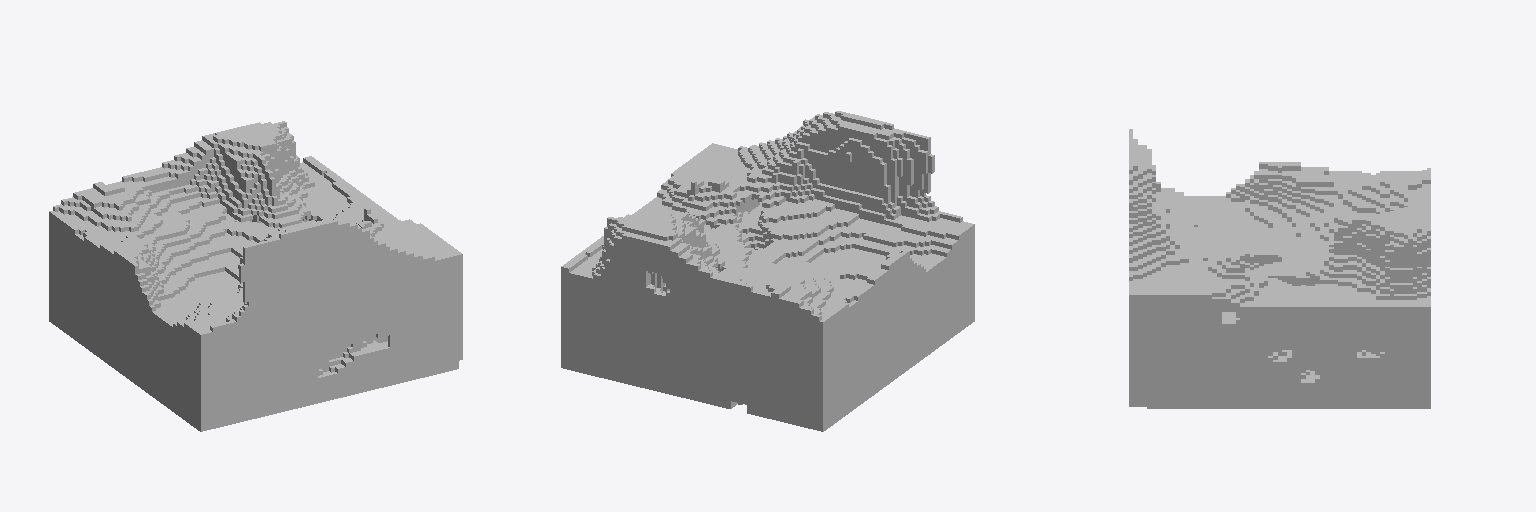
File: large-desert.obj
3 renders of one model, left to right at view 1: azimuth 30°, elevation 25°; view 2: azimuth 150°, elevation 25°; view 3: azimuth 270°, elevation 25°, orthographic.
Visible parts, largest first — view 1: Honors_World__-47_45_4_to_17_109_68; view 2: Honors_World__-47_45_4_to_17_109_68; view 3: Honors_World__-47_45_4_to_17_109_68.
Part boxes in pixels (bbox=[...]): Honors_World__-47_45_4_to_17_109_68: bbox=[49, 121, 462, 431]; Honors_World__-47_45_4_to_17_109_68: bbox=[561, 111, 974, 431]; Honors_World__-47_45_4_to_17_109_68: bbox=[1129, 129, 1430, 408].
Bounding box in the file's own units: 65 × 42 × 65.